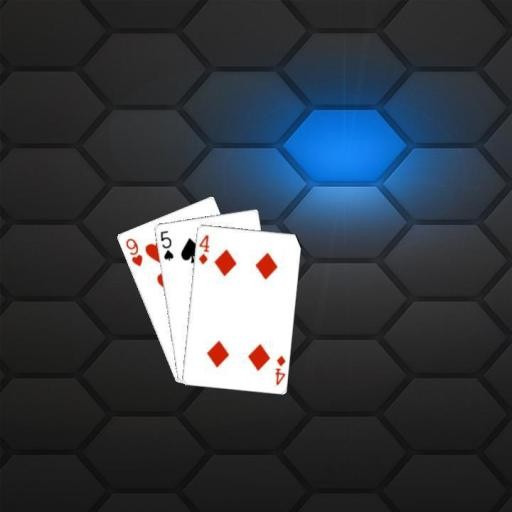card-corner: (122, 235, 144, 268), (157, 227, 174, 262), (195, 231, 210, 265), (272, 352, 286, 386)
